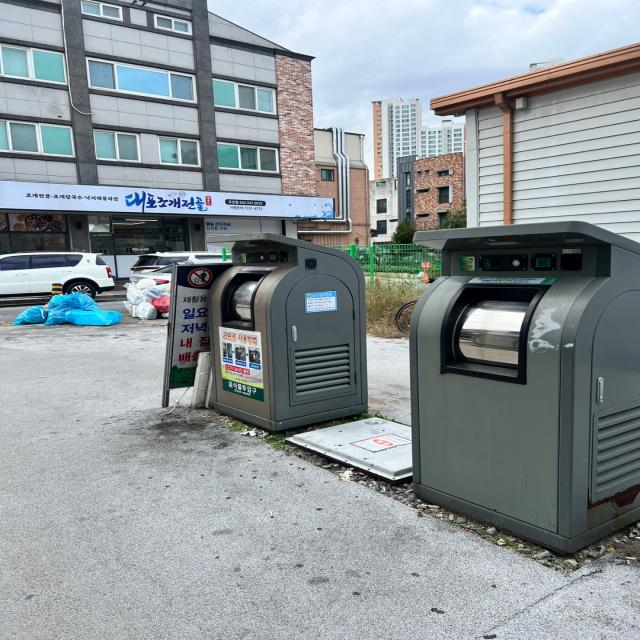CleanNet: (405, 222, 640, 559), (198, 228, 371, 438)
General Waste: (14, 286, 128, 336), (120, 275, 188, 323)
